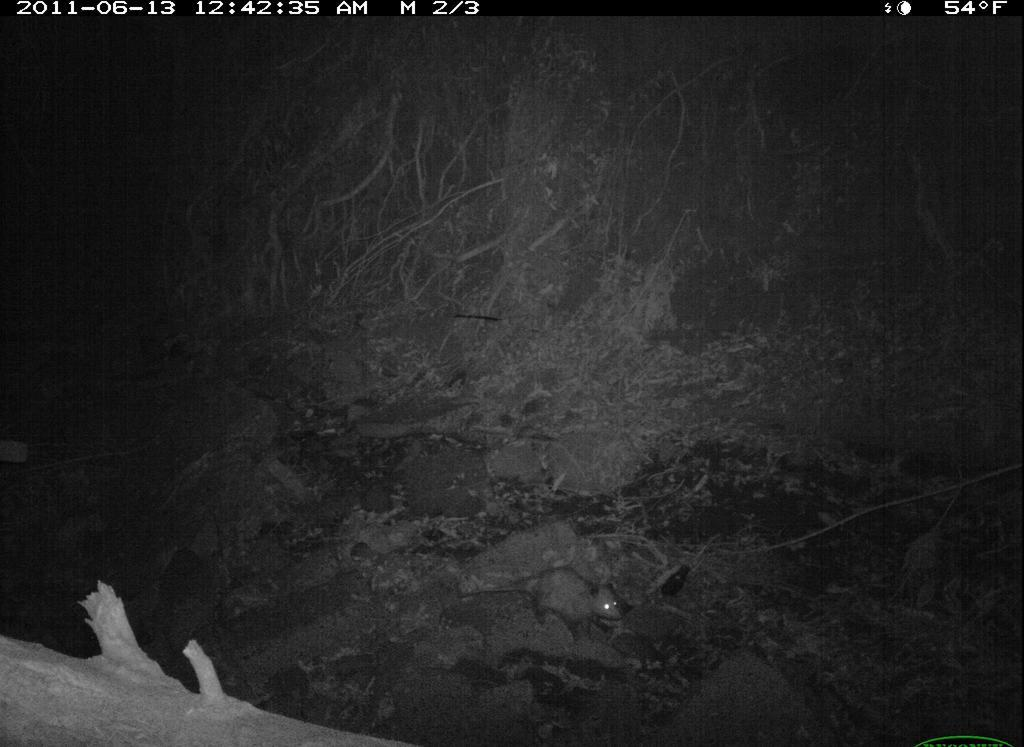opossum: (470, 562, 632, 648)
